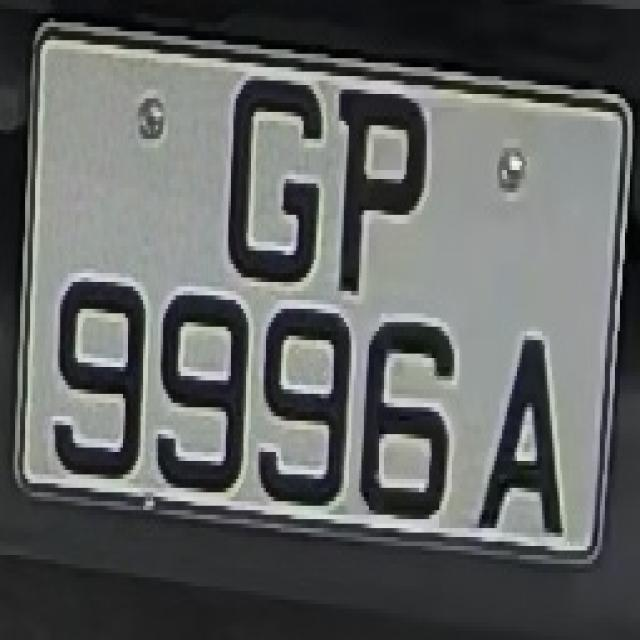6: (361, 287, 457, 519)
9: (151, 278, 251, 514), (256, 291, 351, 528), (50, 264, 146, 483)
A: (479, 309, 570, 546)
G: (226, 54, 324, 291)
P: (326, 76, 432, 282)
